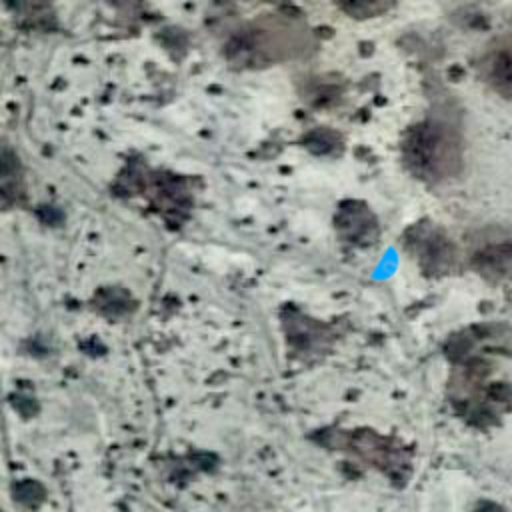semicircle: (360, 238, 416, 294)
